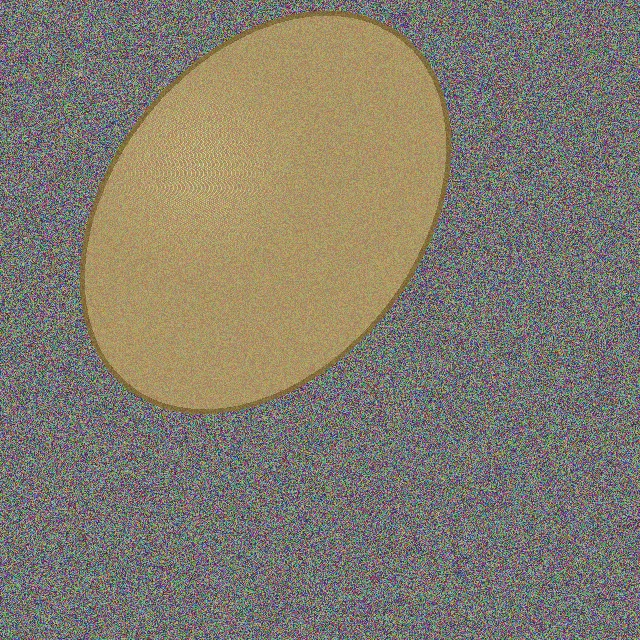lens: (82, 13, 448, 411)
